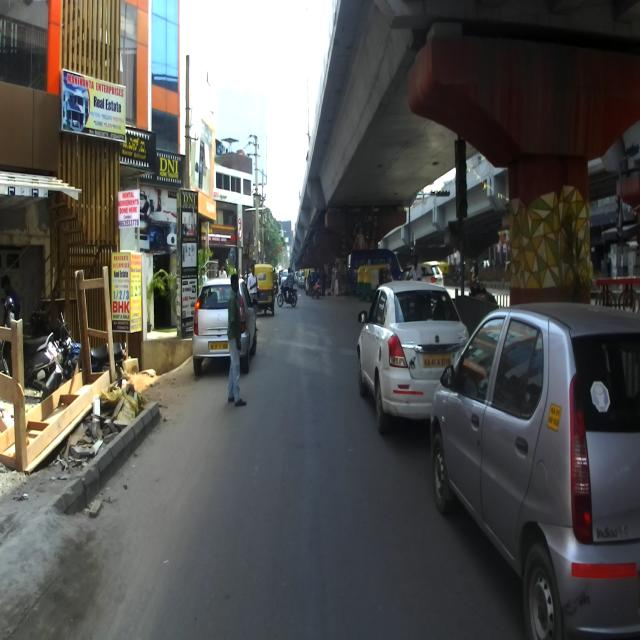Table ahead at: (0, 271, 117, 472)
car ahead at: (428, 297, 640, 640), (357, 262, 456, 436), (193, 275, 229, 372)
person ahead at: (225, 271, 249, 415)
